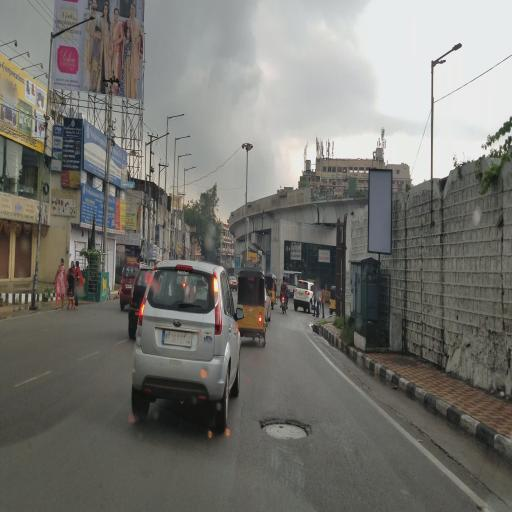street_light_0: (425, 33, 481, 71), (162, 100, 192, 127), (174, 123, 200, 145), (174, 141, 196, 163)
